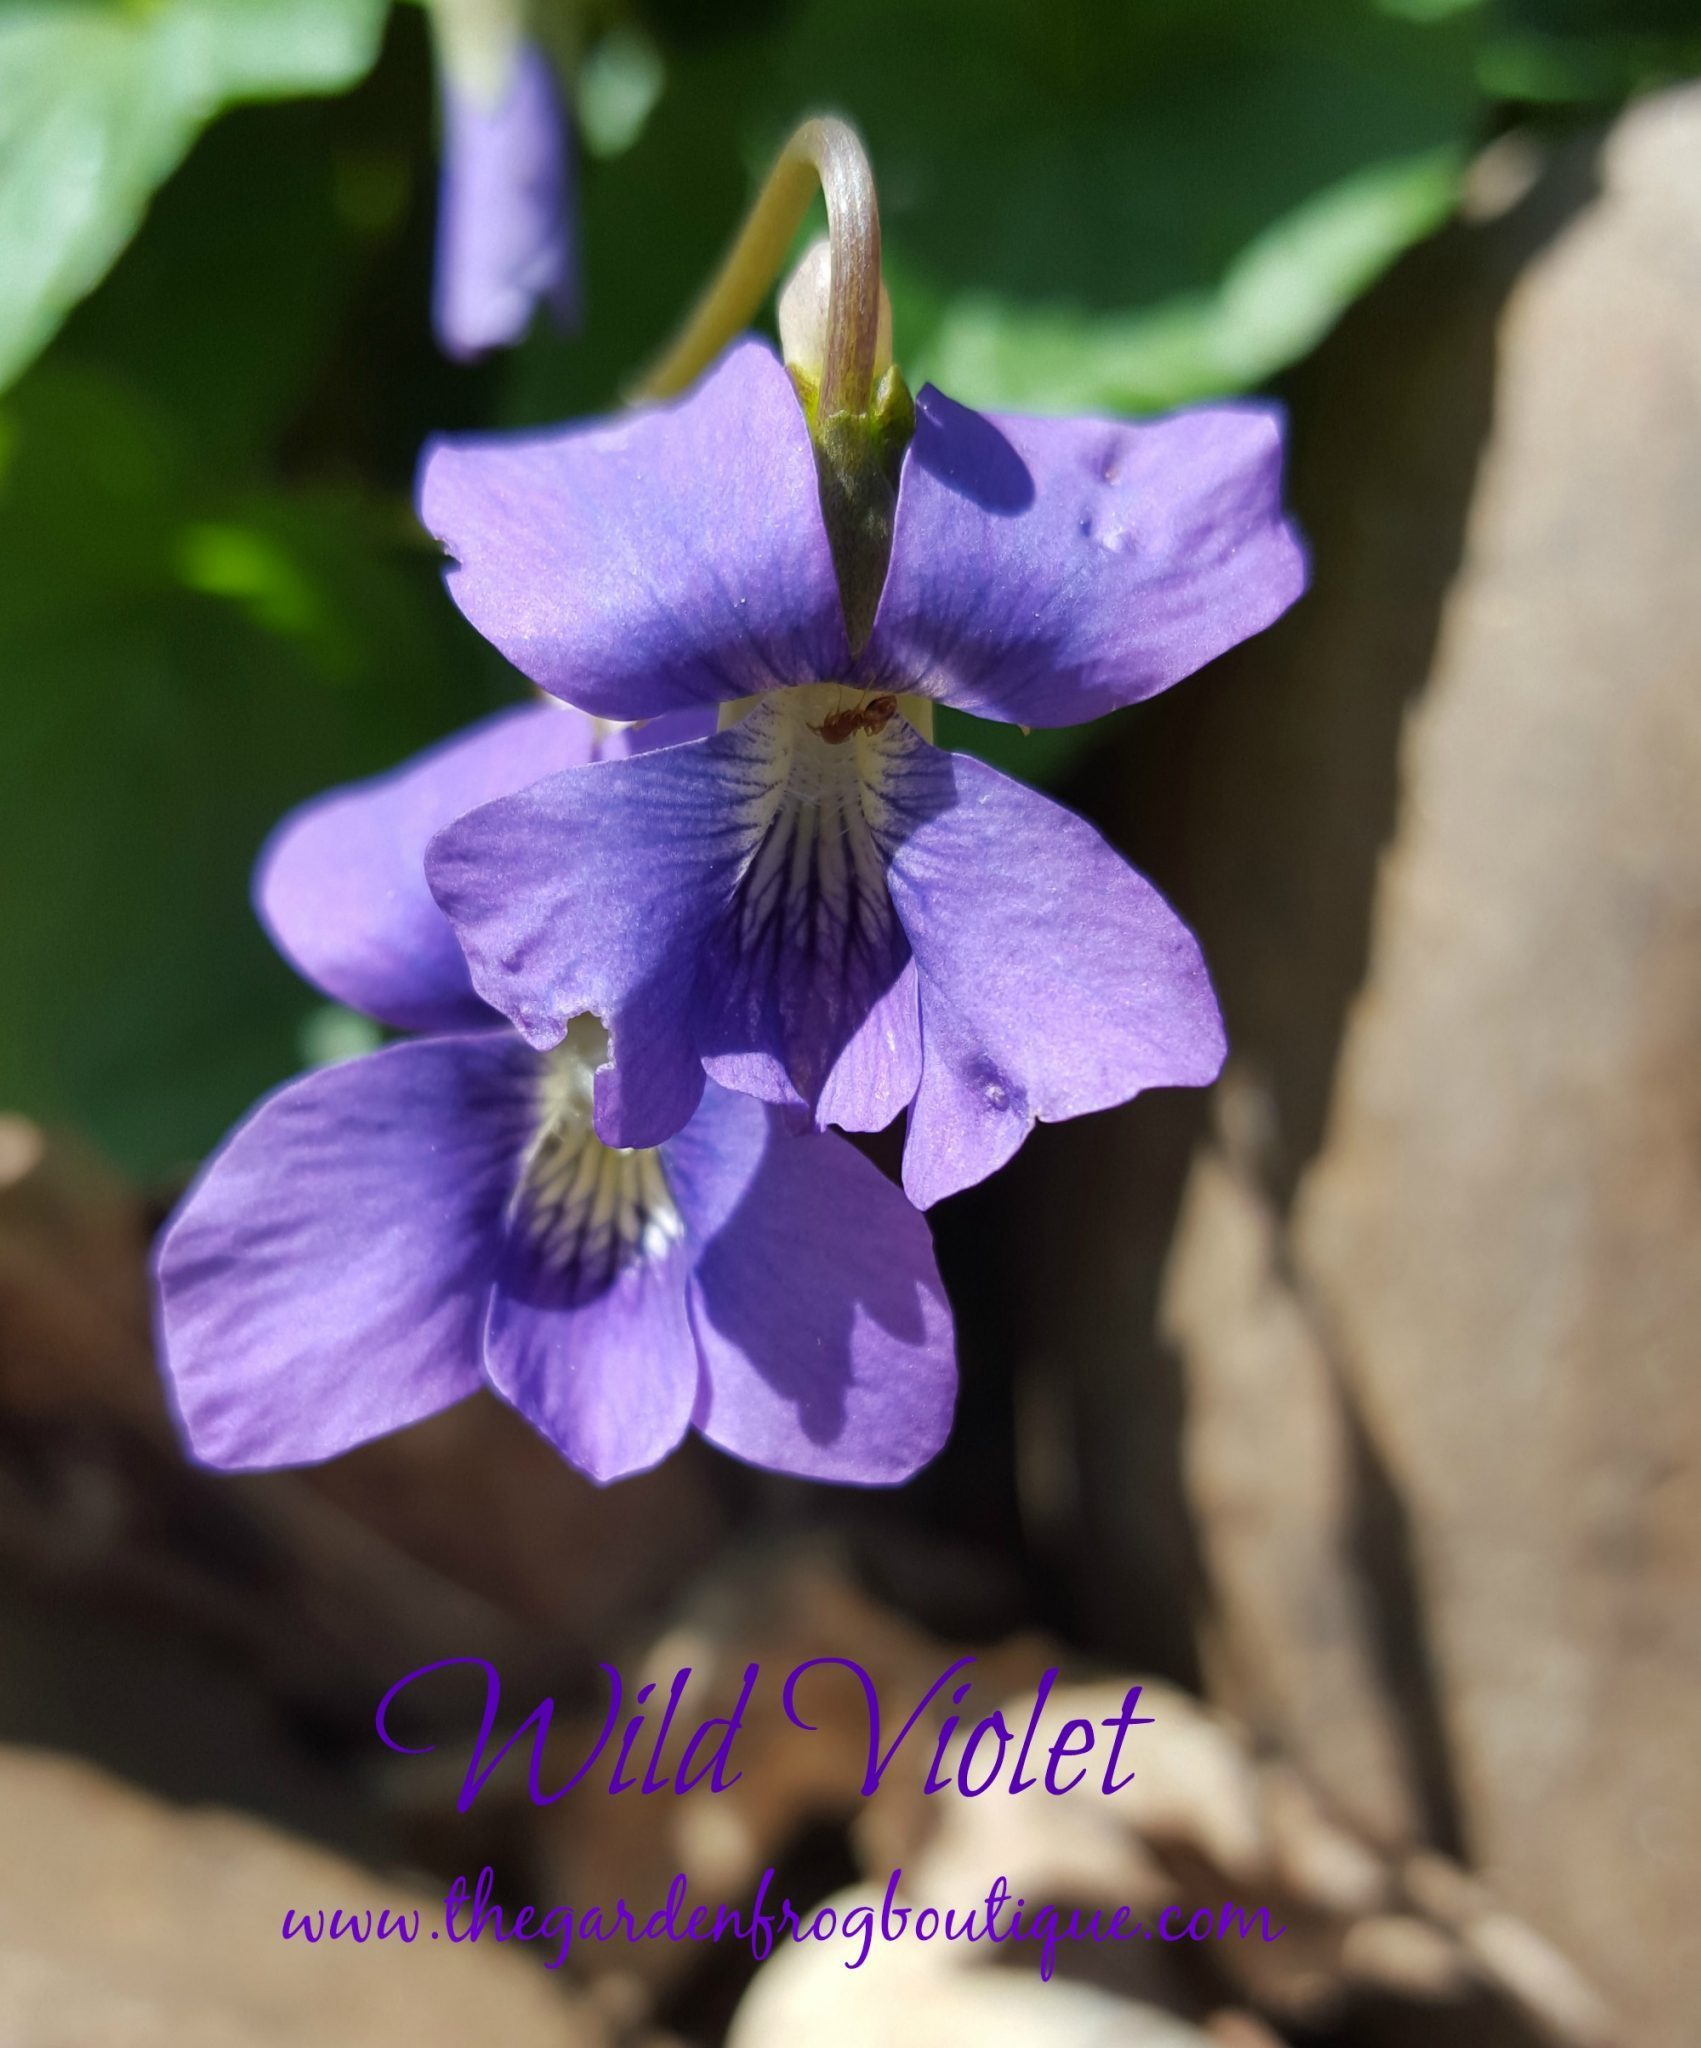violet: (413, 403, 1283, 1131), (126, 811, 976, 1499)
